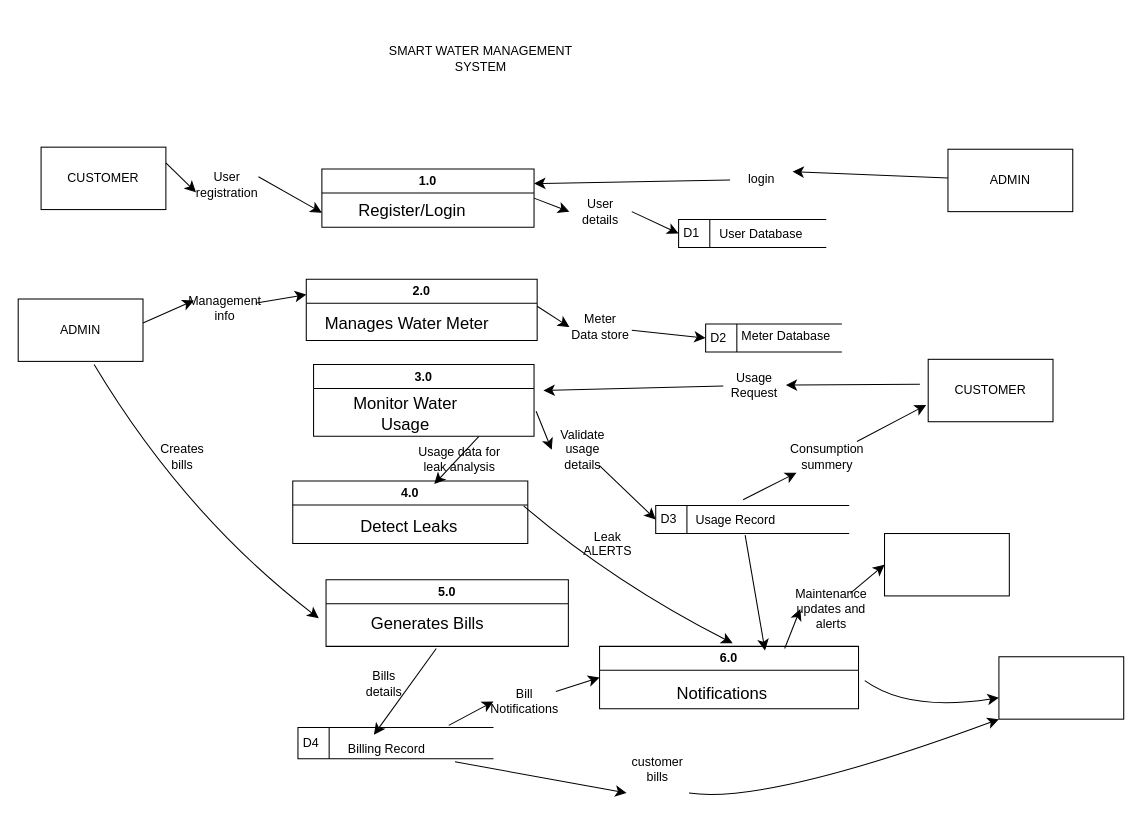
This 1142x817 diagram has some shape labels left out. The centre of each missing label's shape, as x and y in pixels:
CUSTOMRE: (1061,687)
FIELD TECHNICIAN: (946,564)
